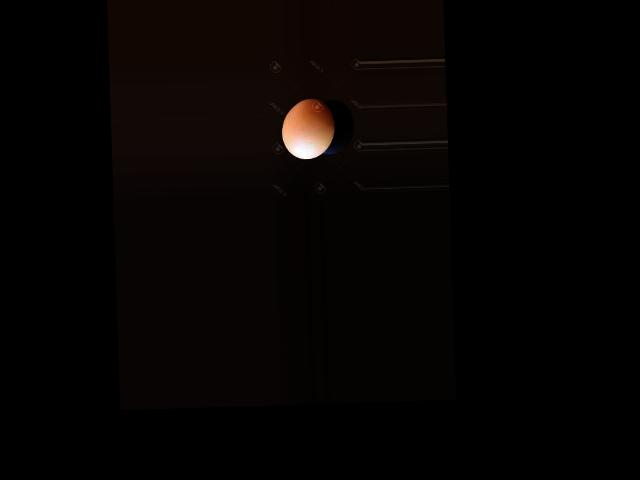egg: (280, 98, 336, 160)
